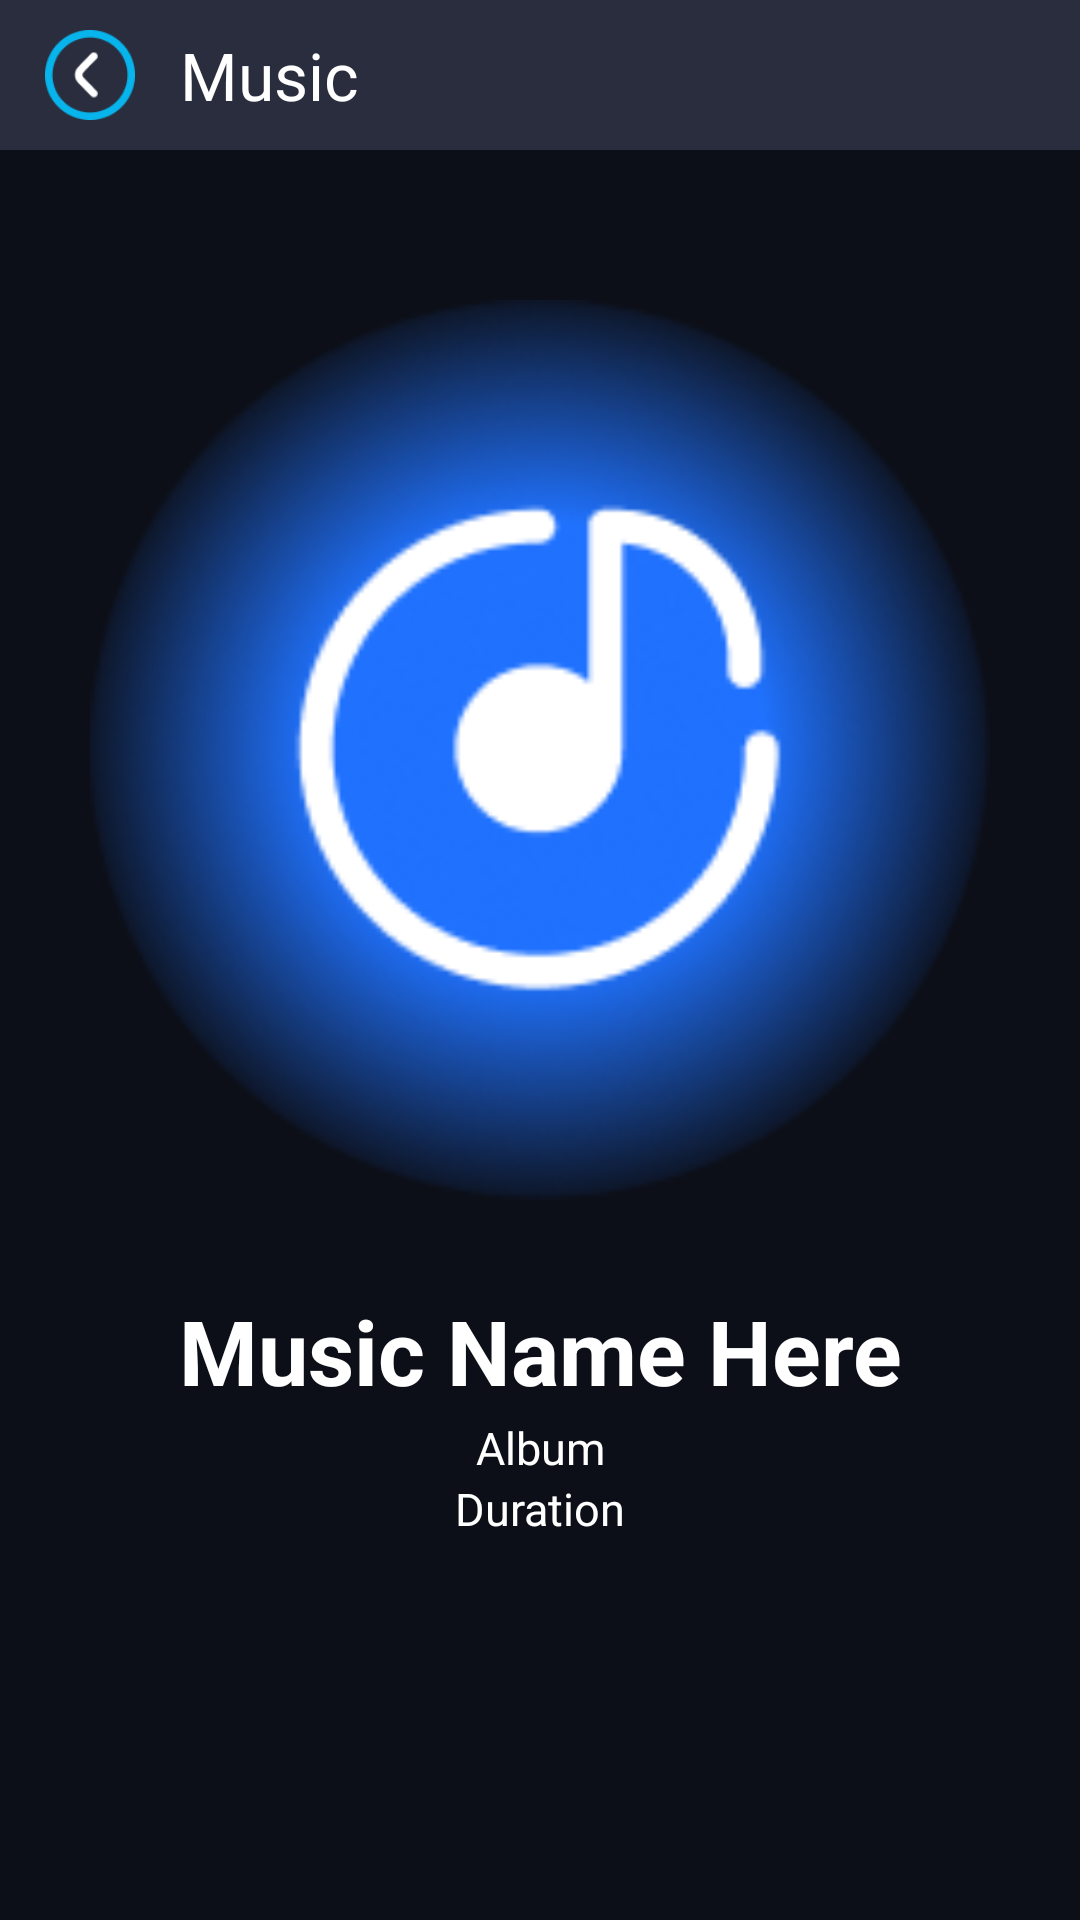

Where to tap for icons on this 1080w x 1920h app screen, as (x=x, y=y):
backbutton: (x=90, y=75)
